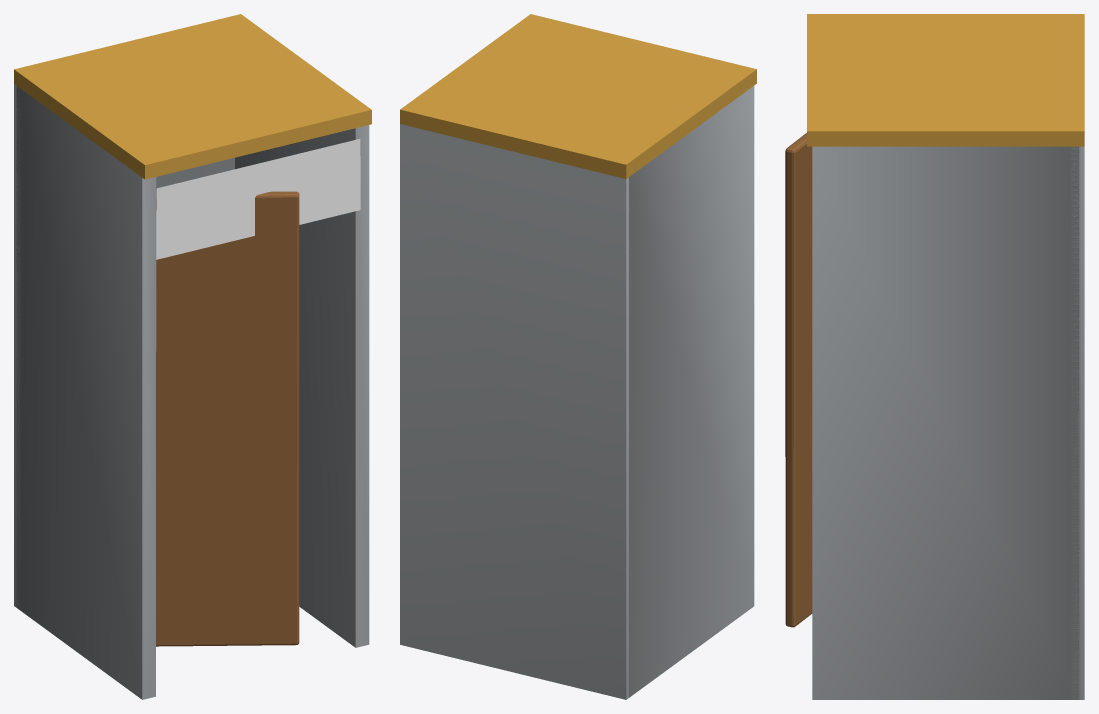
Rendered from restroom-block.glb.
3 renders of one model, left to right at view 1: azimuth 30°, elevation 25°; view 2: azimuth 150°, elevation 25°; view 3: azimuth 270°, elevation 25°, orthographic. The views are drawn at different scales.
Parts seen in each view (by area): view 1: restroom-block_lod0; view 2: restroom-block_lod0; view 3: restroom-block_lod0.
Part boxes in pixels (box(x1,y1,x2,y2)): restroom-block_lod0: box(14, 14, 371, 699); restroom-block_lod0: box(400, 14, 756, 699); restroom-block_lod0: box(785, 14, 1084, 699).
Size of what is drawn, in the model's own units: 1 by 2.26 by 1.08.
